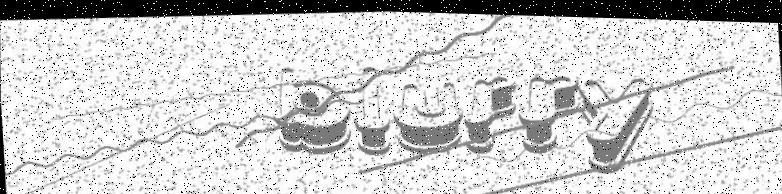b: (275, 59, 353, 156)
l: (349, 62, 391, 155)
r: (461, 71, 521, 157), (520, 69, 581, 153)
u: (388, 75, 464, 153)
y: (576, 69, 658, 176)
